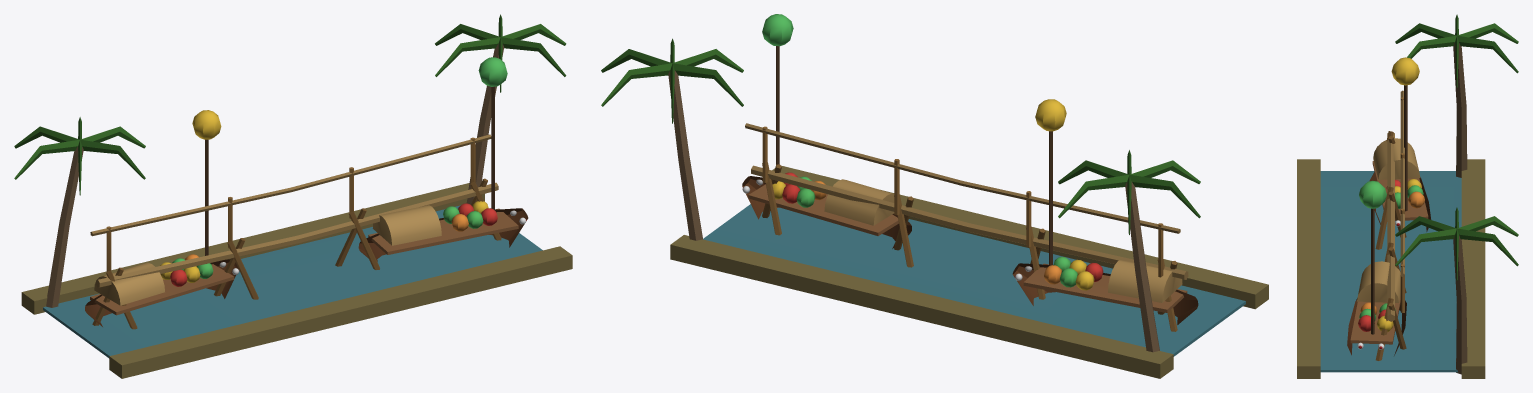
Rendered from lm-s2-mekong.glb.
3 renders of one model, left to right at view 1: azimuth 30°, elevation 25°; view 2: azimuth 150°, elevation 25°; view 3: azimuth 270°, elevation 25°, orthographic. The views are drawn at different scales.
Bounding box in the file's own units: 12.74 × 4.45 × 4.72.
